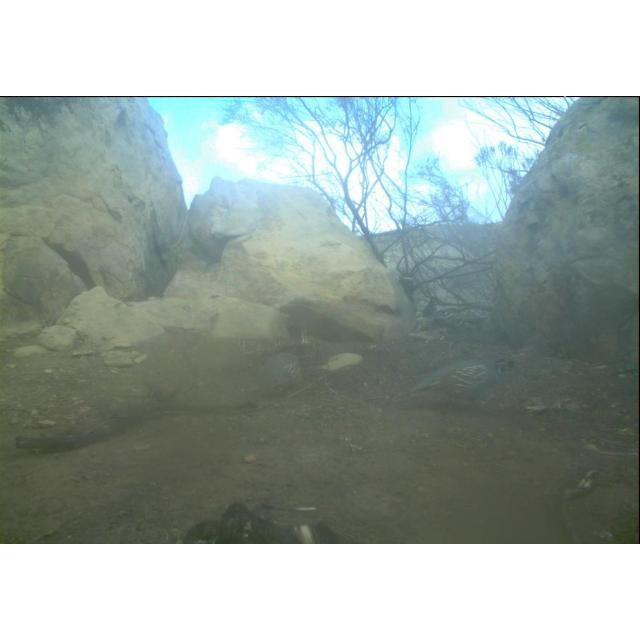animals: (420, 344, 520, 394)
